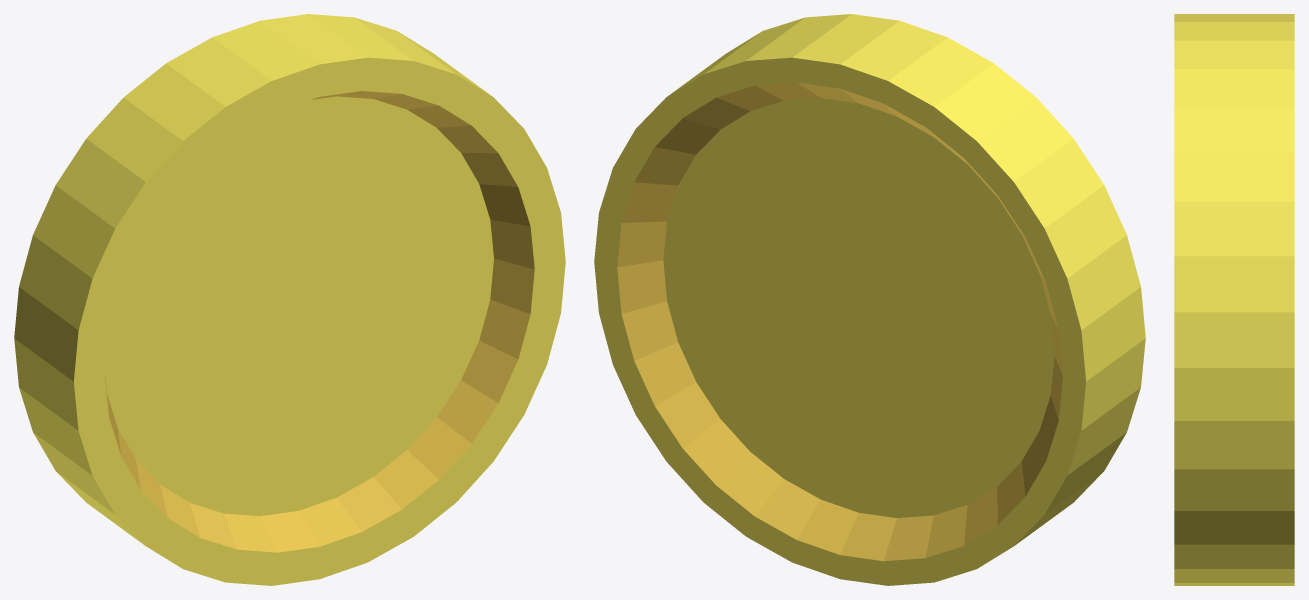
The model's file is Coin.glb.
The picture shows the model from 3 angles, left to right: view 1: azimuth 30°, elevation 25°; view 2: azimuth 150°, elevation 25°; view 3: azimuth 270°, elevation 25°; orthographic projection.
Parts seen in each view (by area): view 1: Circle; view 2: Circle; view 3: Circle.
Part boxes in pixels (bbox=[...]): Circle: bbox=[14, 14, 565, 585]; Circle: bbox=[594, 14, 1145, 585]; Circle: bbox=[1174, 14, 1294, 585].
Size of the model in its own units: 1.78 by 1.78 by 0.3737.
